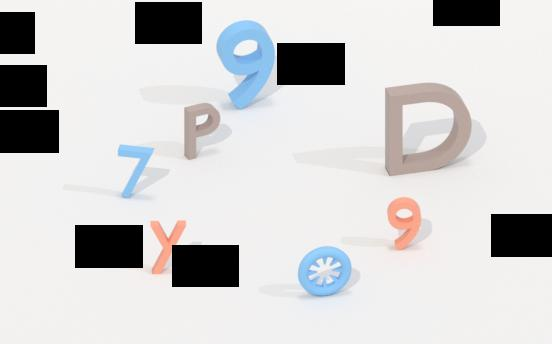7: (113, 137, 157, 205)
9: (215, 19, 278, 114), (384, 194, 424, 254)
Y: (148, 216, 190, 283)
d: (379, 82, 473, 183)
p: (180, 100, 225, 162)
tron: (298, 243, 355, 302)
